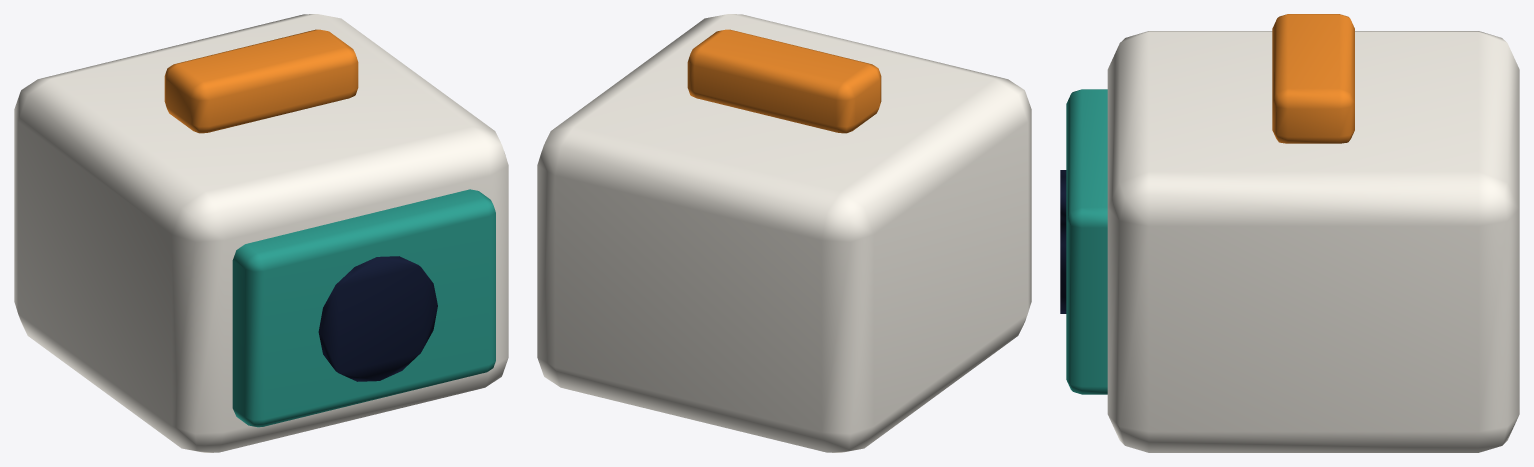
Rendered from Fx_Co2Filter_New.glb.
3 views of the same model, side by side, from view 1: azimuth 30°, elevation 25°; view 2: azimuth 150°, elevation 25°; view 3: azimuth 270°, elevation 25° (orthographic). The views are drawn at different scales.
Visible parts, largest first — view 1: Fx_Co2Filter_New.Body, Fx_Co2Filter_New.Grille, Fx_Co2Filter_New.Handle, Fx_Co2Filter_New.Port; view 2: Fx_Co2Filter_New.Body, Fx_Co2Filter_New.Handle; view 3: Fx_Co2Filter_New.Body, Fx_Co2Filter_New.Grille, Fx_Co2Filter_New.Handle, Fx_Co2Filter_New.Port.
Boxes of the visible parts, <box> form: Fx_Co2Filter_New.Body: <box>14,14,508,452</box>; Fx_Co2Filter_New.Grille: <box>232,189,495,427</box>; Fx_Co2Filter_New.Handle: <box>164,29,358,133</box>; Fx_Co2Filter_New.Port: <box>318,256,437,381</box>; Fx_Co2Filter_New.Body: <box>537,14,1031,452</box>; Fx_Co2Filter_New.Handle: <box>687,29,881,133</box>; Fx_Co2Filter_New.Body: <box>1107,31,1519,452</box>; Fx_Co2Filter_New.Grille: <box>1066,89,1107,394</box>; Fx_Co2Filter_New.Handle: <box>1272,14,1354,143</box>; Fx_Co2Filter_New.Port: <box>1060,170,1066,313</box>.
Bounding box in the file's own units: 0.2 × 0.177 × 0.223.
1 material, 1 textured.
